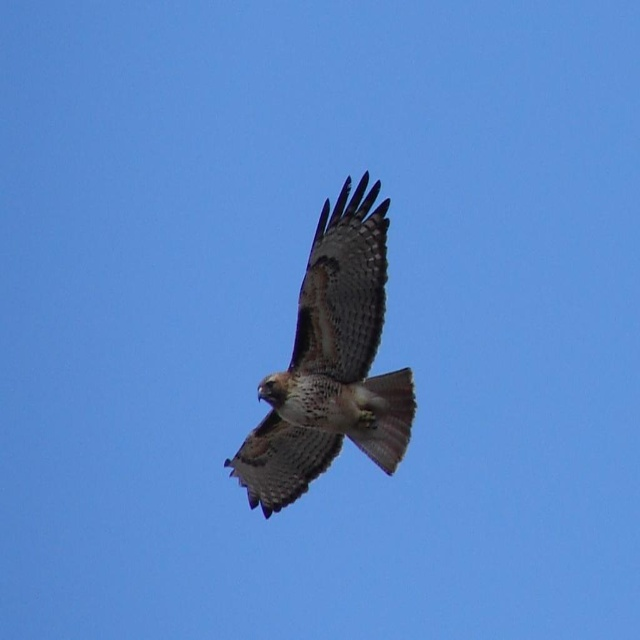Eagle: (224, 169, 418, 520)
